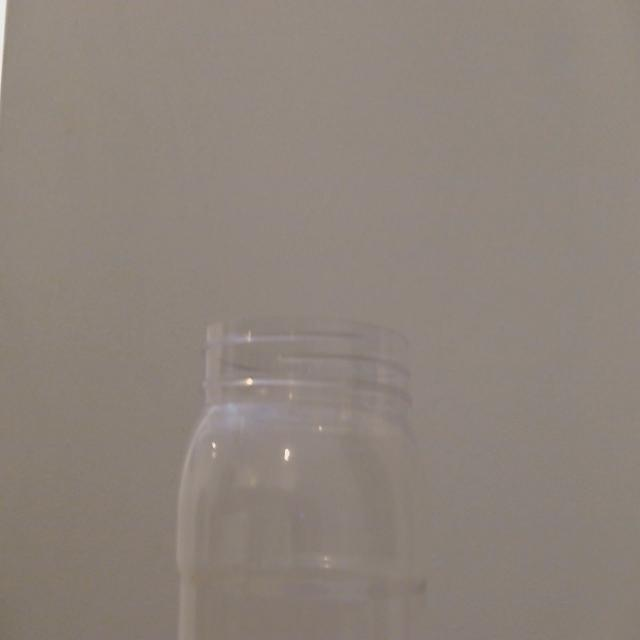missing_cap: (191, 306, 430, 426)
